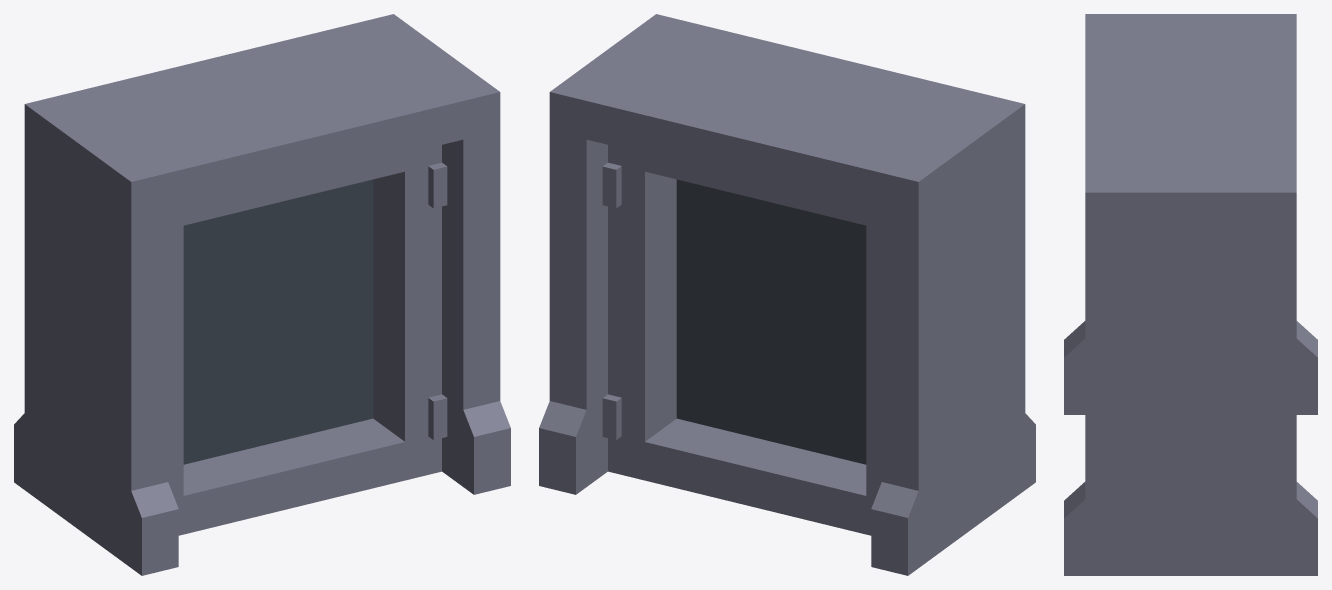
The model's file is wall-window.obj.
The picture shows the model from 3 angles, left to right: view 1: azimuth 30°, elevation 25°; view 2: azimuth 150°, elevation 25°; view 3: azimuth 270°, elevation 25°; orthographic projection.
Bounding box in the file's own units: 1 × 1 × 0.6.
